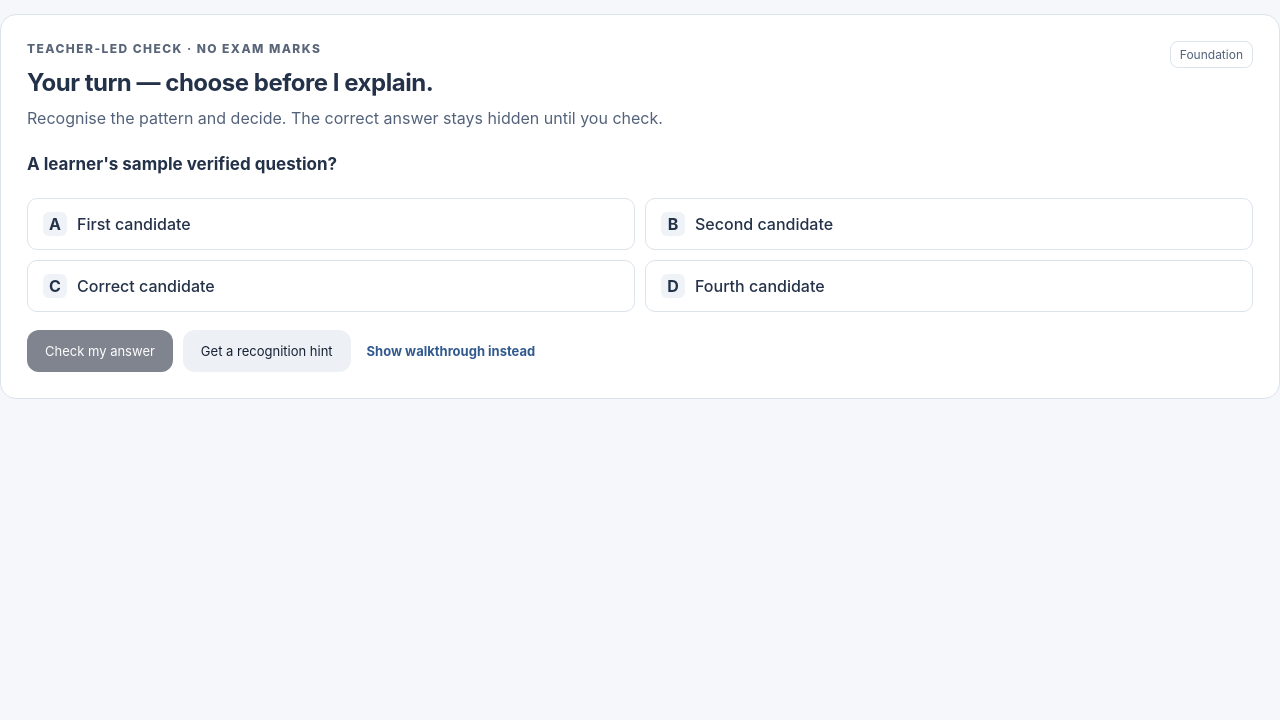
Test case: Teacher guided check › hides both verified answer feedback and explanation until the learner checks
Expected: the text "A learner's sample verified question?" is shown, [27,154,337,174]
Expected: the text "VERIFIED_WORKED_EXPLANATION for teaching this sample." is not shown
Click the button "A First candidate" at (134, 224), box [27,198,635,250]
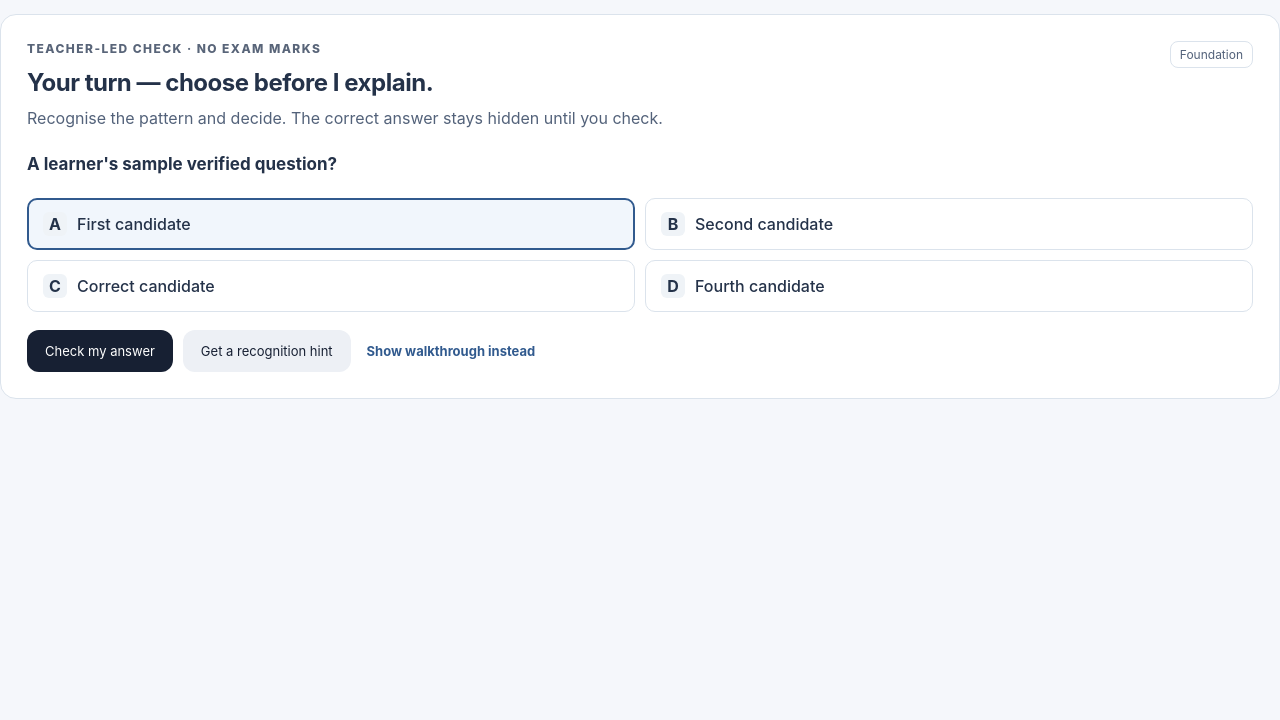
Click the button "Check my answer" at (100, 351), box [27,330,173,372]
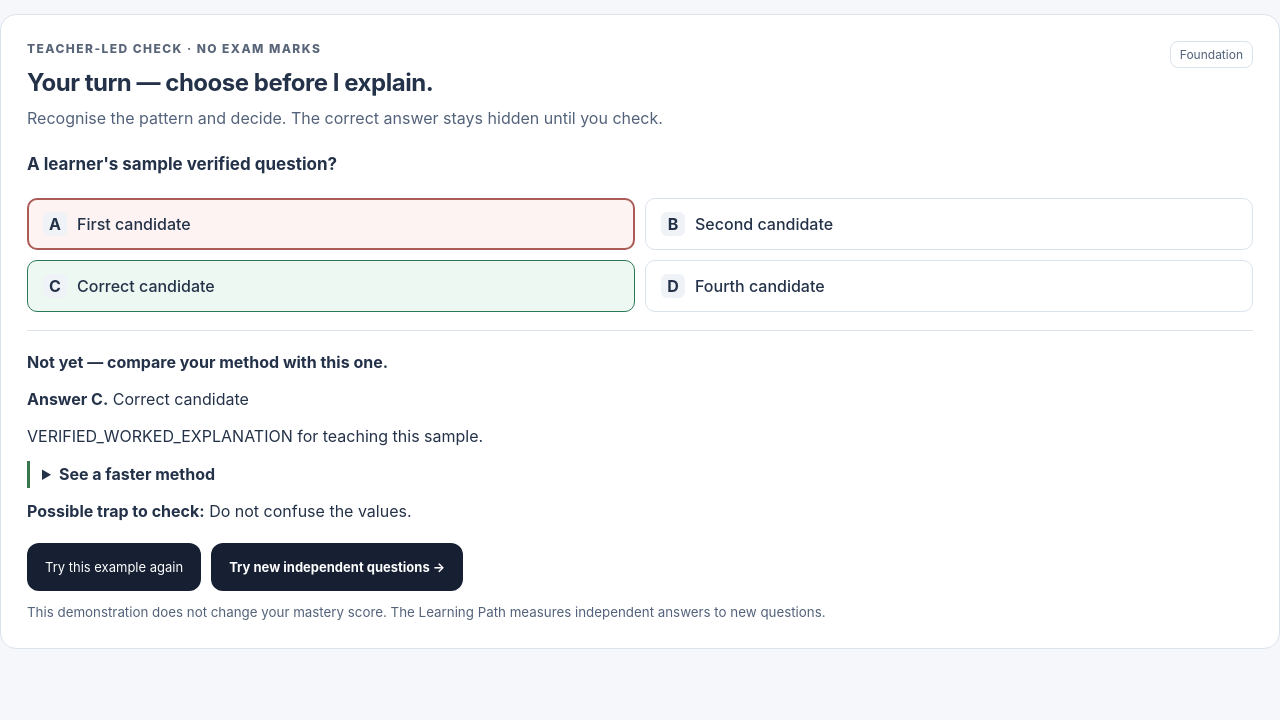
Expected: the text "Not yet — compare your method with this one." is shown, [27,352,388,372]
Expected: the text "VERIFIED_WORKED_EXPLANATION for teaching this sample." is shown, [27,426,483,446]
Expected: the text "Answer C." is shown, [27,389,108,409]
